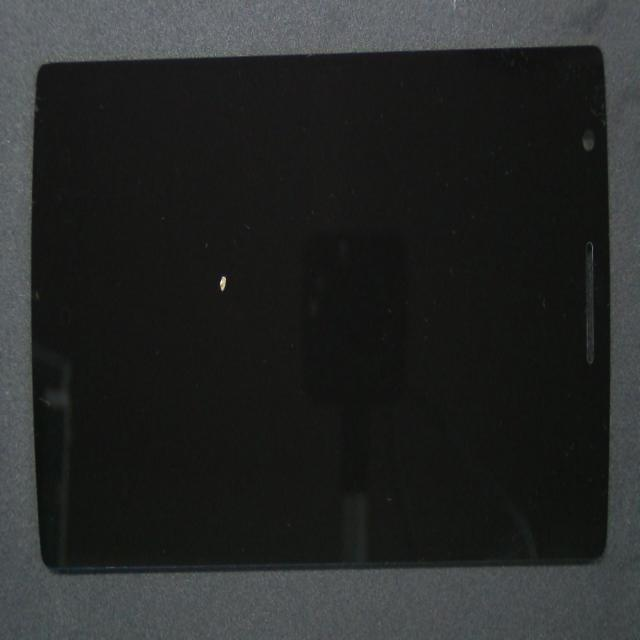stain: (115, 161, 345, 484)
